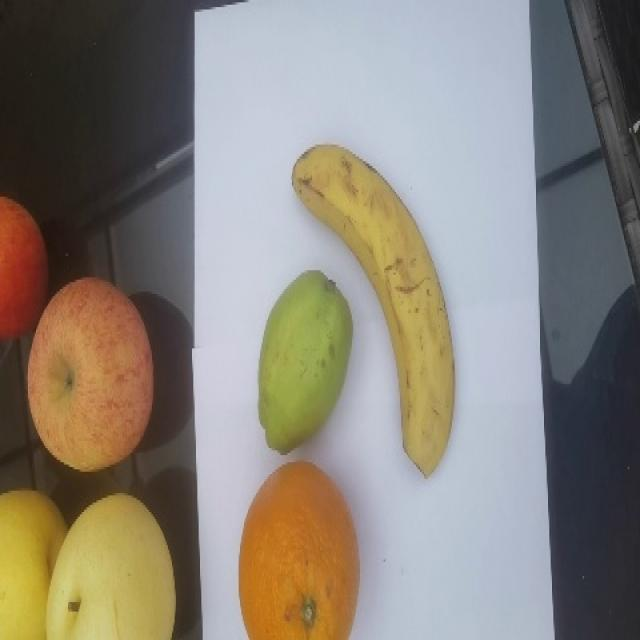Apple: (26, 275, 154, 472), (0, 195, 49, 341)
Banana: (290, 142, 455, 478)
Orange: (238, 459, 360, 639)
